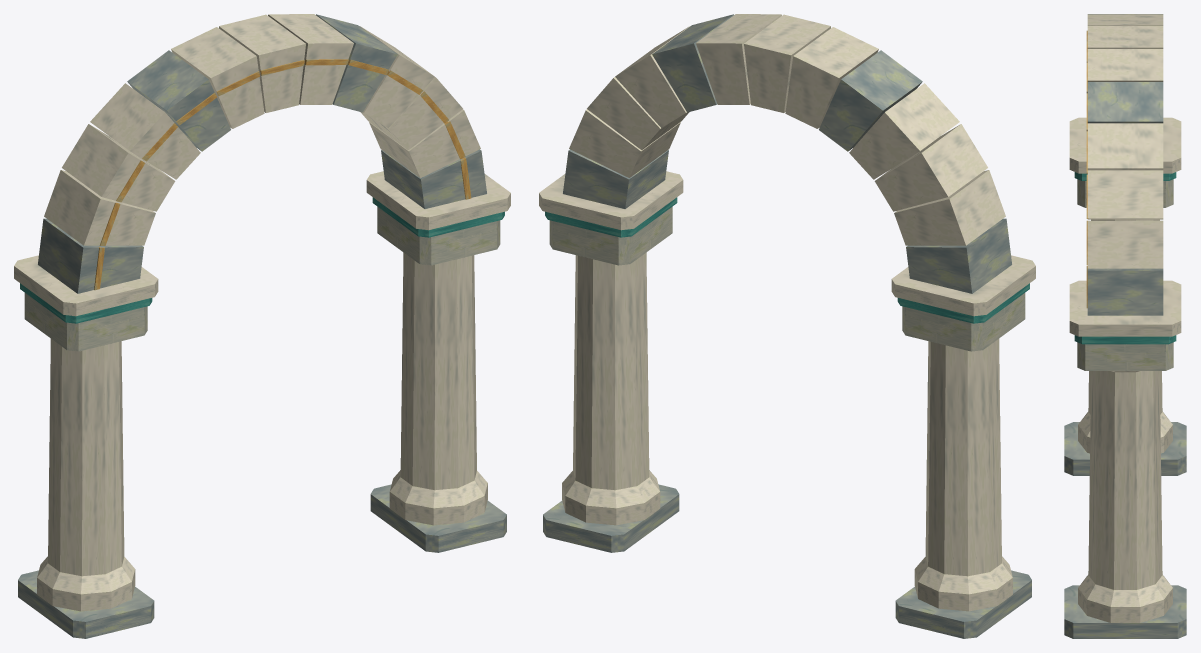
File: Arcade6.fbx
3 views of the same model, side by side, from view 1: azimuth 30°, elevation 25°; view 2: azimuth 150°, elevation 25°; view 3: azimuth 270°, elevation 25° (orthographic). The views are drawn at different scales.
Visible parts, largest first — view 1: Arcade6; view 2: Arcade6; view 3: Arcade6.
Boxes of the visible parts, bbox=[...] form: Arcade6: bbox=[14, 14, 510, 638]; Arcade6: bbox=[539, 14, 1035, 638]; Arcade6: bbox=[1064, 14, 1186, 638].
Bounding box in the file's own units: 660 × 746 × 165.
1 material, 1 textured.
